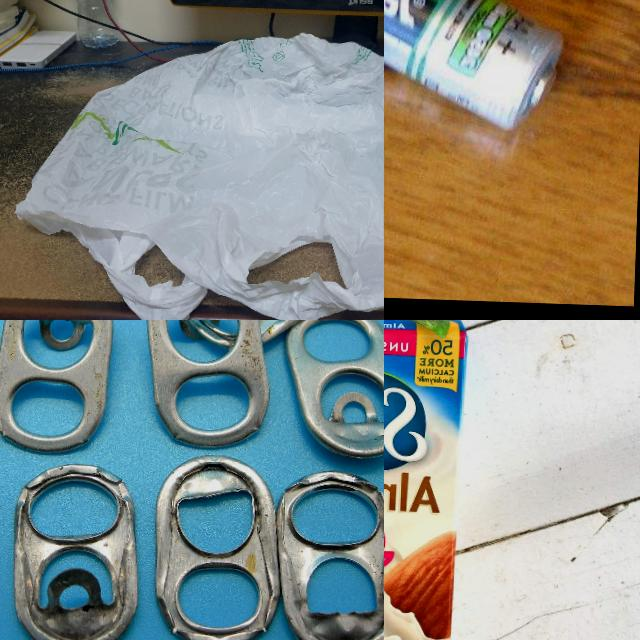aba de lata: (147, 450, 287, 640), (7, 462, 144, 640), (271, 468, 384, 640), (142, 320, 275, 450), (0, 320, 117, 455), (281, 320, 384, 463), (179, 320, 339, 345)
bateria: (384, 0, 568, 133)
caixinha: (384, 320, 469, 640)
sacola plástica: (5, 20, 384, 320)
